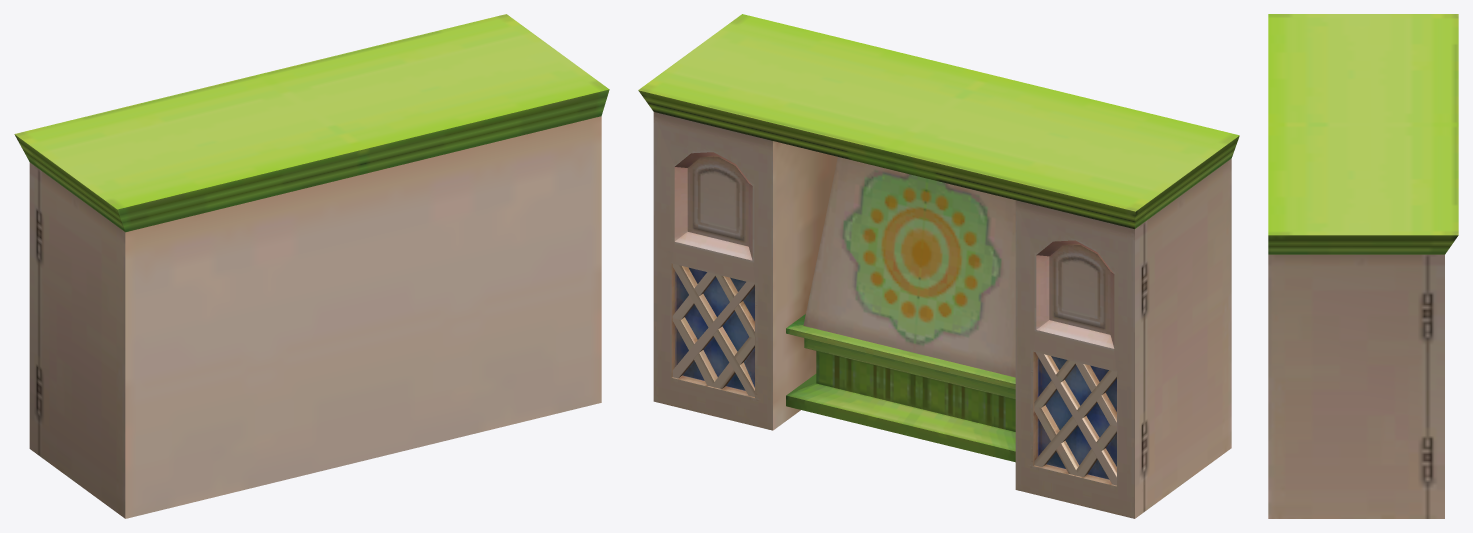
Rendered from furni_0200016_02.FBX.
3 views of the same model, side by side, from view 1: azimuth 30°, elevation 25°; view 2: azimuth 150°, elevation 25°; view 3: azimuth 270°, elevation 25° (orthographic). The views are drawn at different scales.
Visible parts, largest first — view 1: furni_0200016_02; view 2: furni_0200016_02; view 3: furni_0200016_02.
Part boxes in pixels (x1,y1,x2,y2): furni_0200016_02: (14,14,609,518); furni_0200016_02: (638,14,1239,518); furni_0200016_02: (1268,14,1458,518).
Size of the model in its own units: 165 by 100 by 60.
